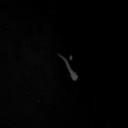fish: (57, 52, 78, 82)
